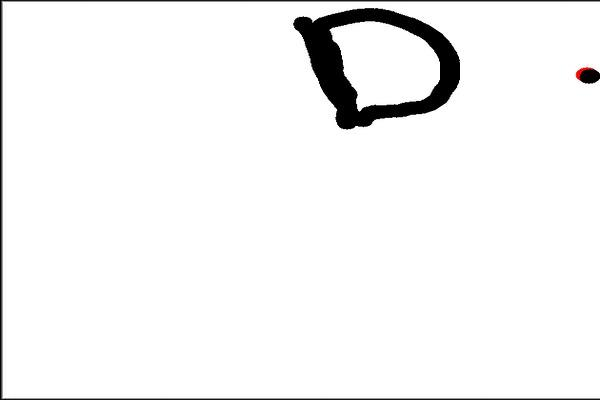D: (289, 4, 464, 137)
